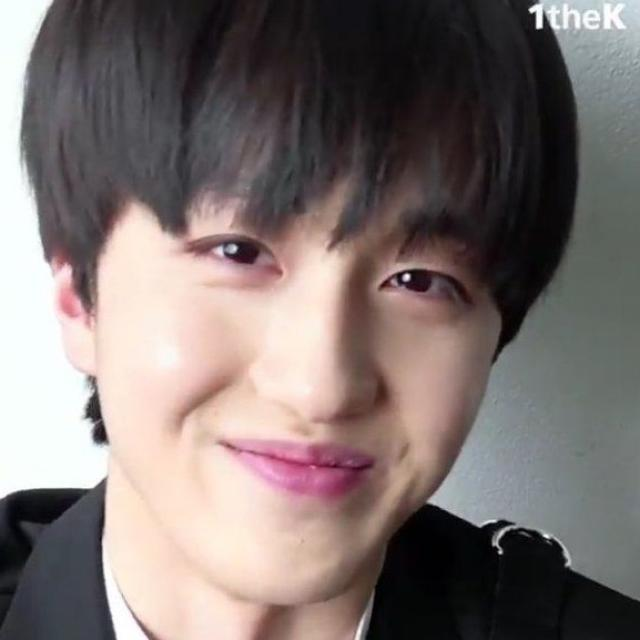Normal: (89, 174, 501, 605)
